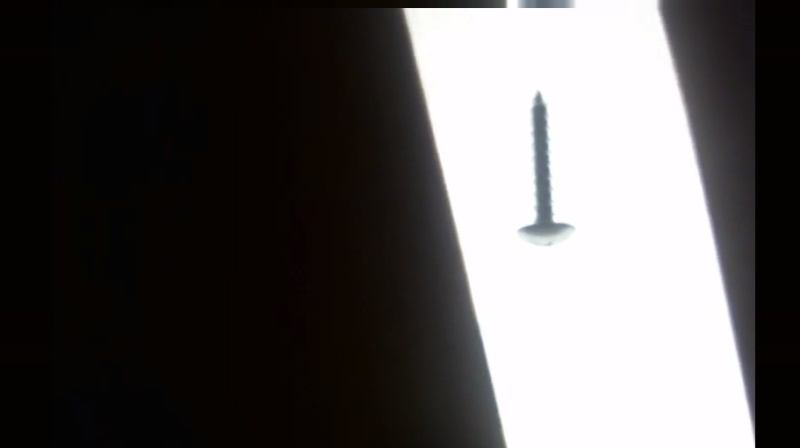S003: (513, 87, 576, 252)
